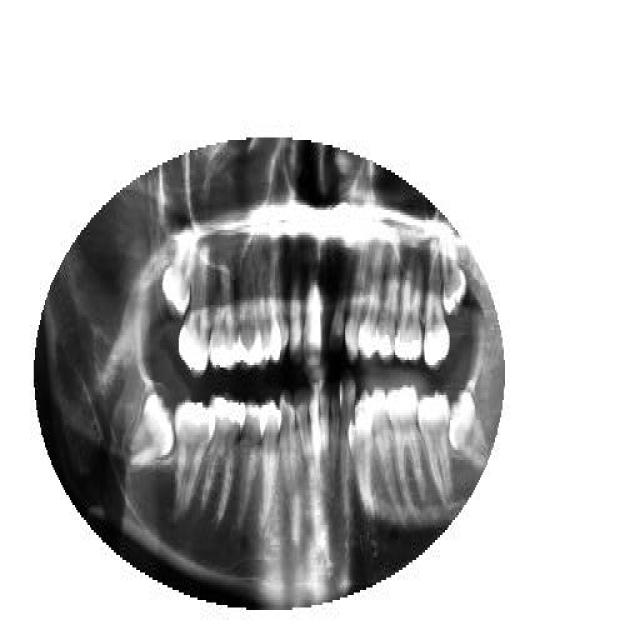Fillings: (202, 395, 242, 525), (395, 253, 424, 365), (209, 265, 239, 373), (376, 245, 402, 363), (238, 258, 262, 370)
Impacted Tooth: (129, 390, 176, 475), (447, 388, 488, 468)
